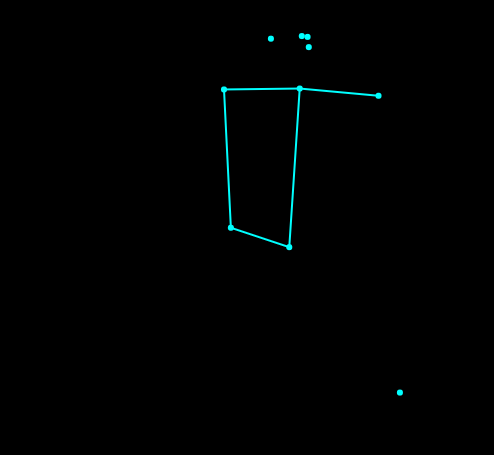warrior_2: (192, 25, 409, 405)
